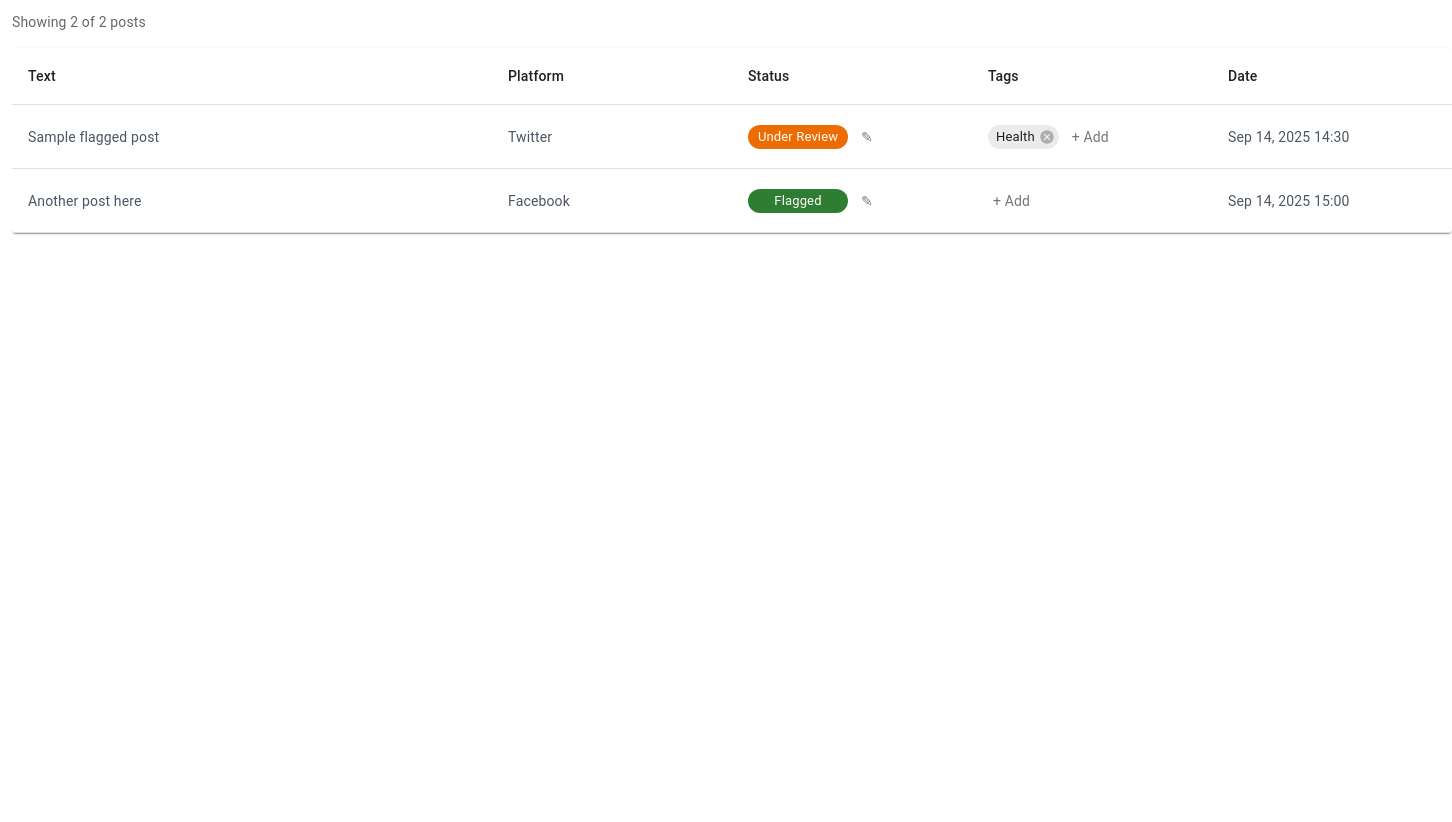
it: PostsTable - Status inline editing › rolls back and shows toast on API error
The image size is (1452, 822).
# Open menu
Click the button named "edit status".
click(867, 136)  # box left=856, top=122, right=878, bottom=152
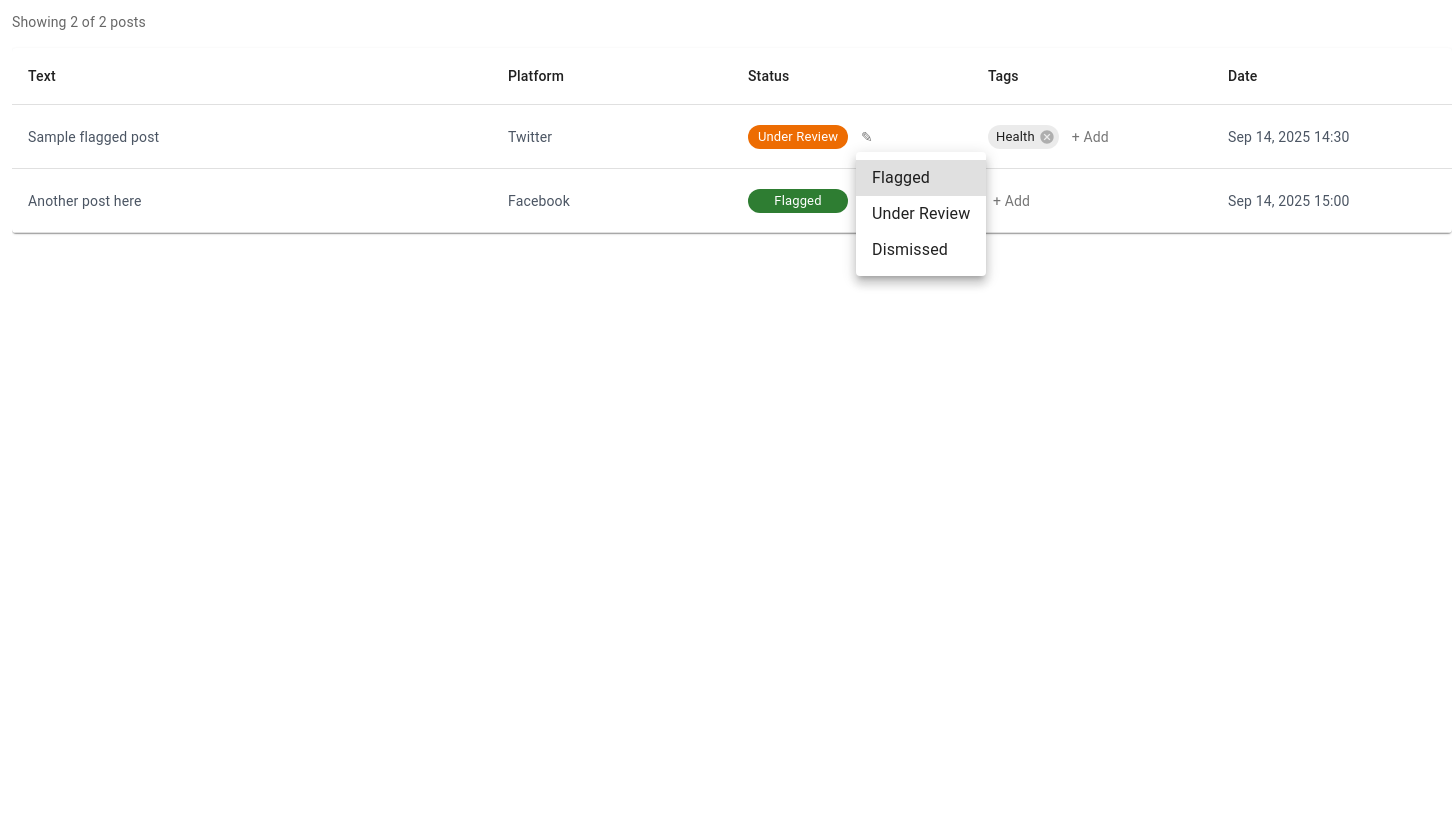
# Select Dismissed
Click the menu item "Dismissed".
click(910, 250)  # box left=872, top=240, right=948, bottom=259
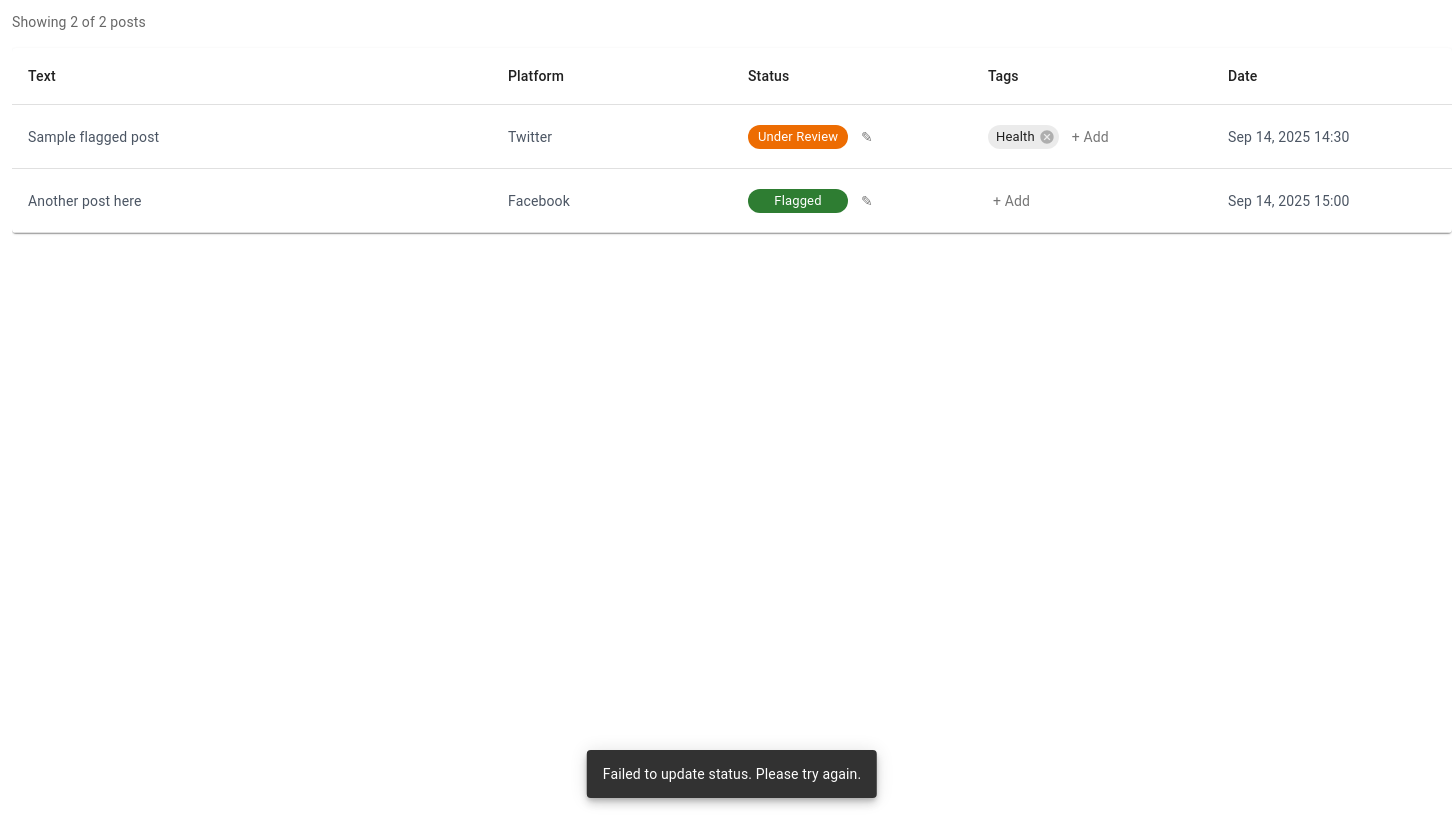
Expected: the text "Under Review" is shown, left=758, top=129, right=838, bottom=144
Now the text "Failed to update status. Please try again." is shown, box left=603, top=766, right=861, bottom=782
